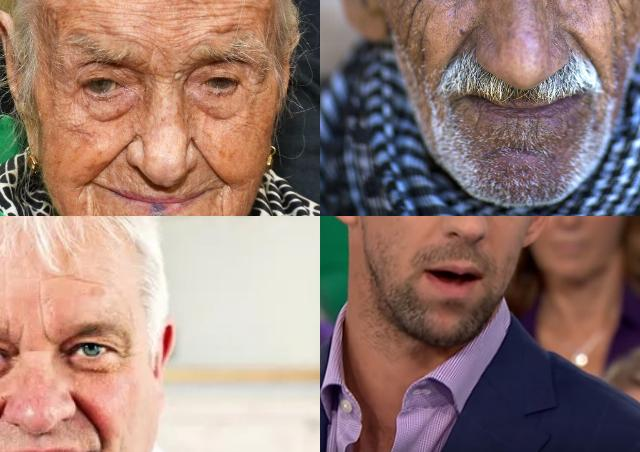forehead: (64, 271, 100, 289), (32, 282, 48, 320), (202, 0, 254, 10)
frown_line: (36, 320, 52, 344), (14, 322, 26, 346)
gummy_smile: (91, 132, 129, 178), (74, 398, 106, 442), (194, 144, 226, 184), (447, 25, 473, 65), (568, 26, 596, 60)
masseter: (400, 12, 428, 46), (601, 0, 632, 27)
sad_smile: (82, 196, 106, 216), (217, 191, 231, 216)
